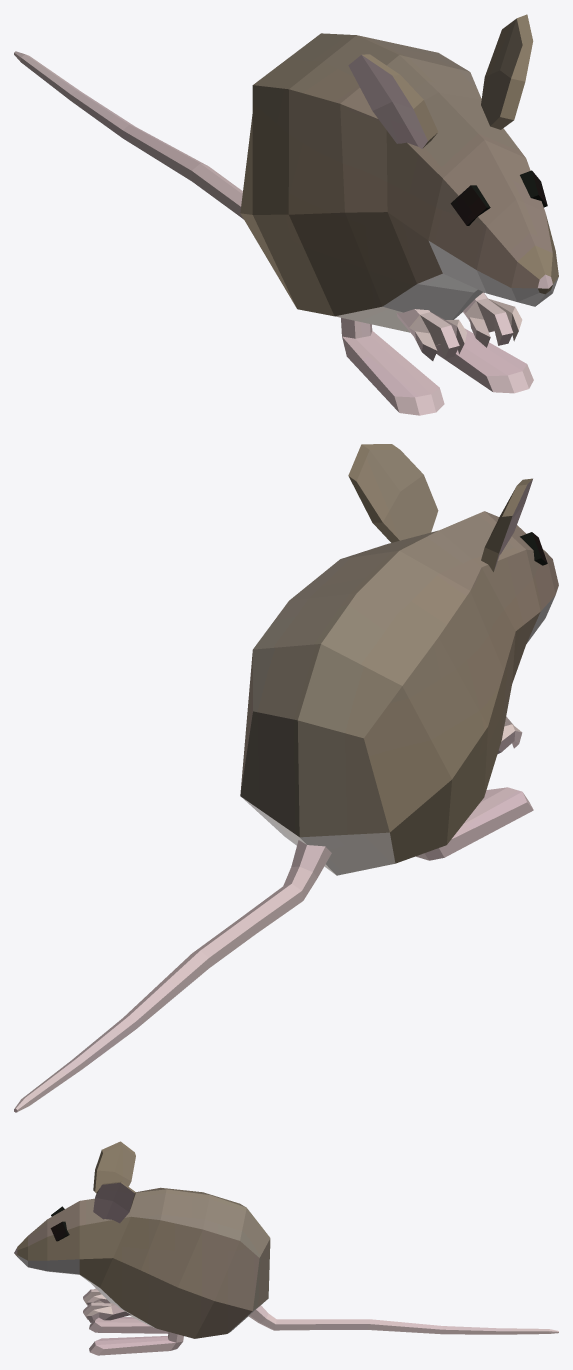
File: cWxdxmp7yaE.glb
3 views of the same model, one above another, from view 1: azimuth 30°, elevation 25°; view 2: azimuth 150°, elevation 25°; view 3: azimuth 270°, elevation 25° (orthographic). The views are drawn at different scales.
Parts seen in each view (by area): view 1: Geo_Mouse; view 2: Geo_Mouse; view 3: Geo_Mouse.
Boxes of the visible parts, x1,y1,x2,y2 form: Geo_Mouse: (14,14,558,415); Geo_Mouse: (14,444,558,1112); Geo_Mouse: (14,1141,558,1355).
Size of the model in its own units: 0.6032 by 0.9999 by 2.79.
Materials: 1 (1 with a texture image).
